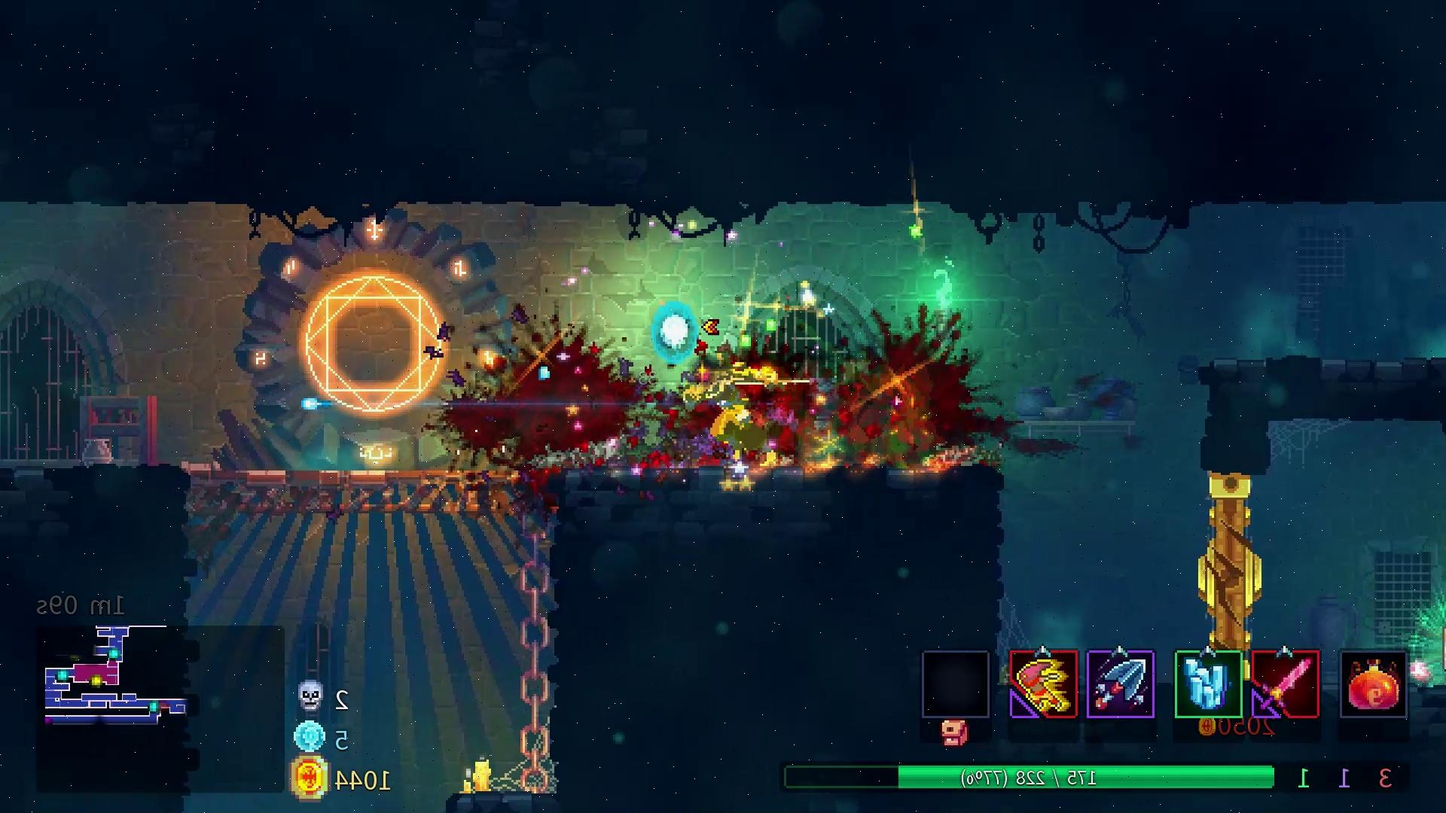door: (228, 204, 520, 461)
gamer: (680, 352, 800, 463)
